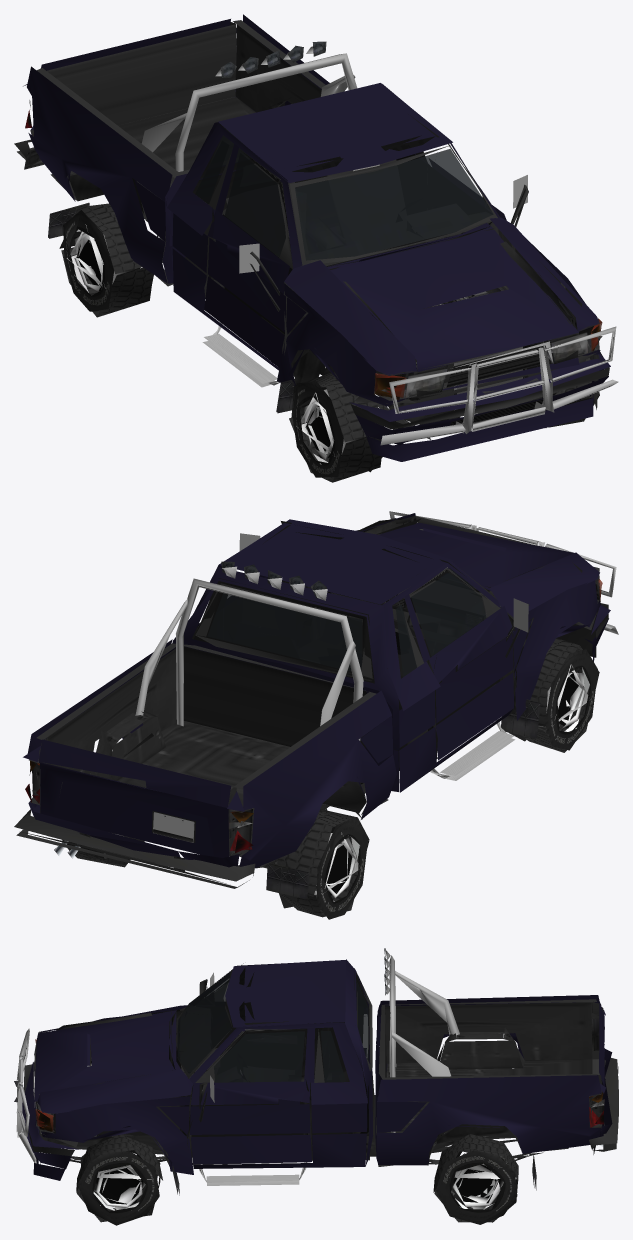
Rendered from lightbody-lifted-85-lite.glb.
3 views of the same model, one above another, from view 1: azimuth 30°, elevation 25°; view 2: azimuth 150°, elevation 25°; view 3: azimuth 270°, elevation 25° (orthographic). The views are drawn at different scales.
Parts seen in each view (by area): view 1: krmlgtbdy85_Blinkers_UCB_Lights_and_Glass_0; view 2: krmlgtbdy85_Blinkers_UCB_Lights_and_Glass_0; view 3: krmlgtbdy85_Blinkers_UCB_Lights_and_Glass_0.
Boxes of the visible parts, left/top/right/bottom form: krmlgtbdy85_Blinkers_UCB_Lights_and_Glass_0: left=14, top=14, right=618, bottom=482; krmlgtbdy85_Blinkers_UCB_Lights_and_Glass_0: left=14, top=511, right=618, bottom=919; krmlgtbdy85_Blinkers_UCB_Lights_and_Glass_0: left=14, top=948, right=618, bottom=1225.
Bounding box in the file's own units: 1.93 × 1.75 × 4.5.
Materials: 8 (7 with a texture image).
